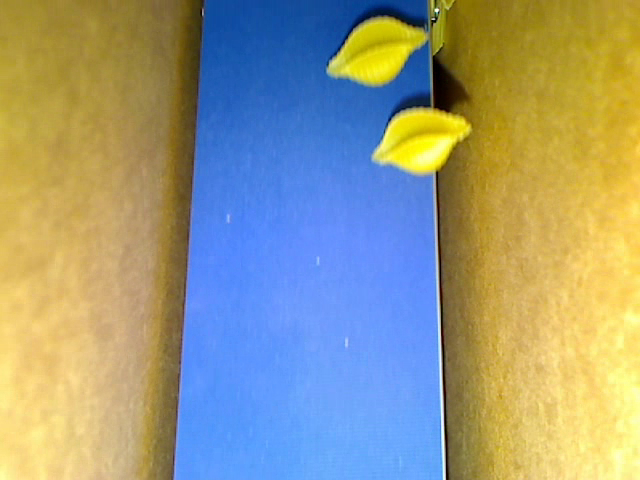penne: (429, 1, 449, 59), (439, 1, 457, 11)
shell: (321, 13, 426, 87), (370, 106, 470, 174)
